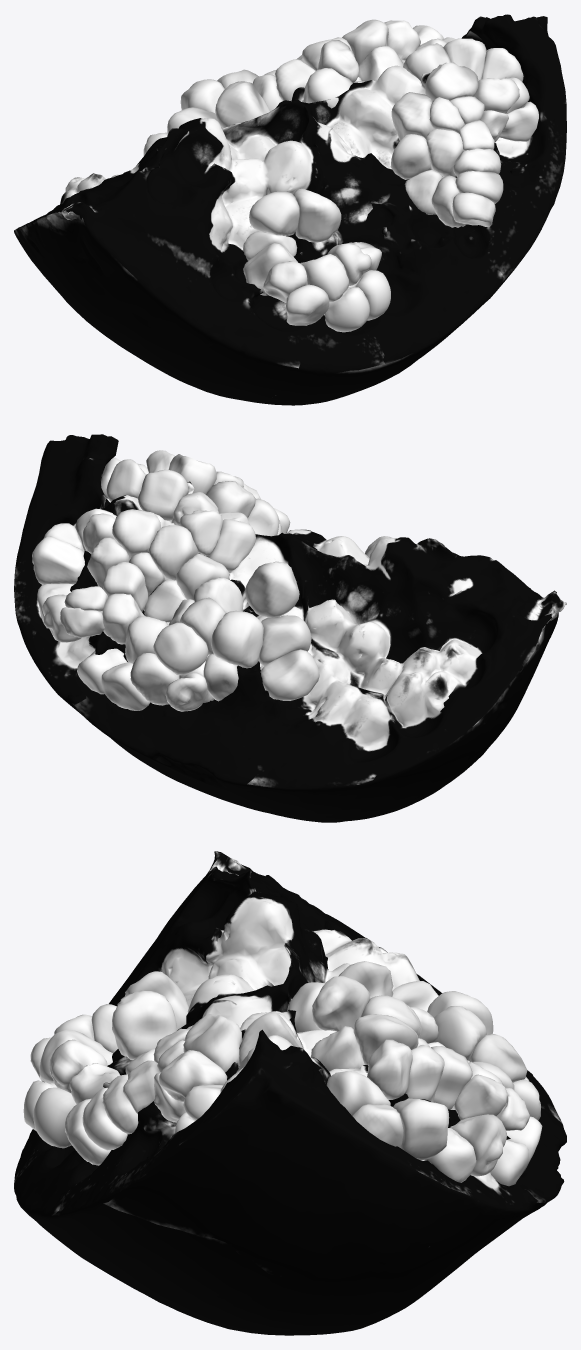
The model's file is uploads_files_4237737_Pomegranate02.gltf.
3 views of the same model, one above another, from view 1: azimuth 30°, elevation 25°; view 2: azimuth 150°, elevation 25°; view 3: azimuth 270°, elevation 25° (orthographic). The views are drawn at different scales.
Visible parts, largest first — view 1: Pomegranate02_quarter; view 2: Pomegranate02_quarter; view 3: Pomegranate02_quarter.
Boxes of the visible parts, x1=… form: Pomegranate02_quarter: x1=14, y1=14, x2=566, y2=405; Pomegranate02_quarter: x1=14, y1=434, x2=566, y2=822; Pomegranate02_quarter: x1=14, y1=851, x2=566, y2=1335.
Bounding box in the file's own units: 0.1496 × 0.0902 × 0.1143.
Materials: 1 (1 with a texture image).
